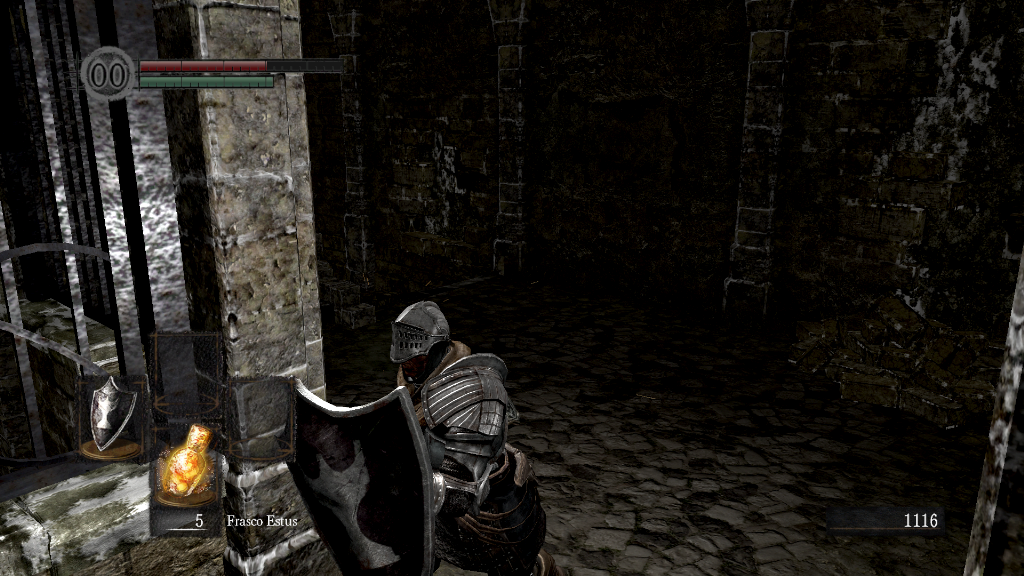health: (138, 58, 343, 71)
humanity: (80, 45, 136, 102)
player: (278, 299, 568, 576)
souls: (825, 506, 945, 536)
stamina: (138, 74, 274, 88)
